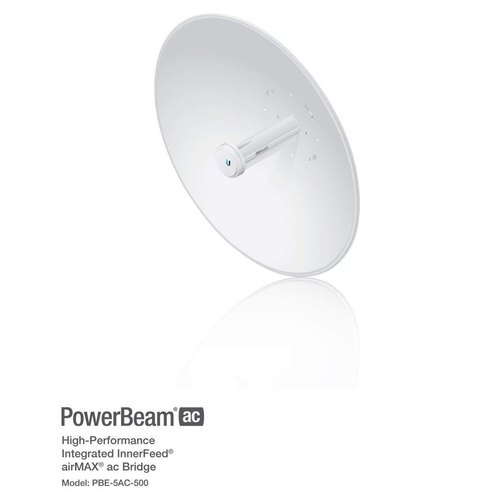ba: (128, 17, 376, 317)
